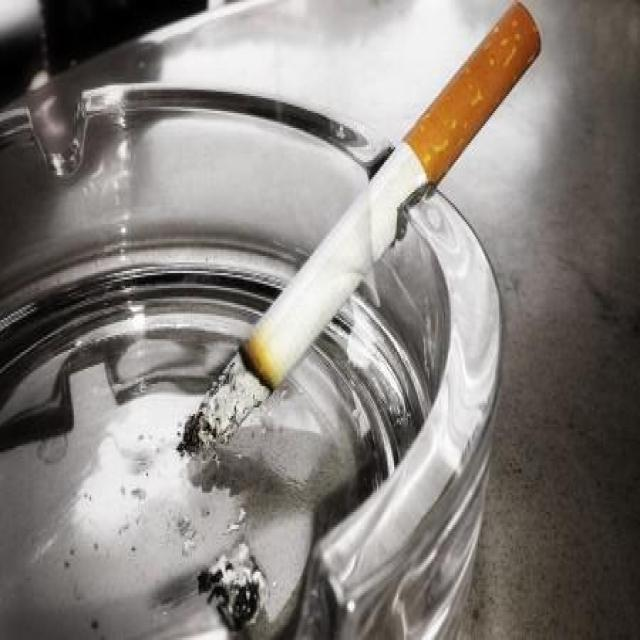cigarette: (196, 0, 549, 464)
